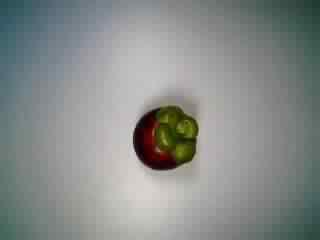mangosteen: (127, 100, 205, 172)
